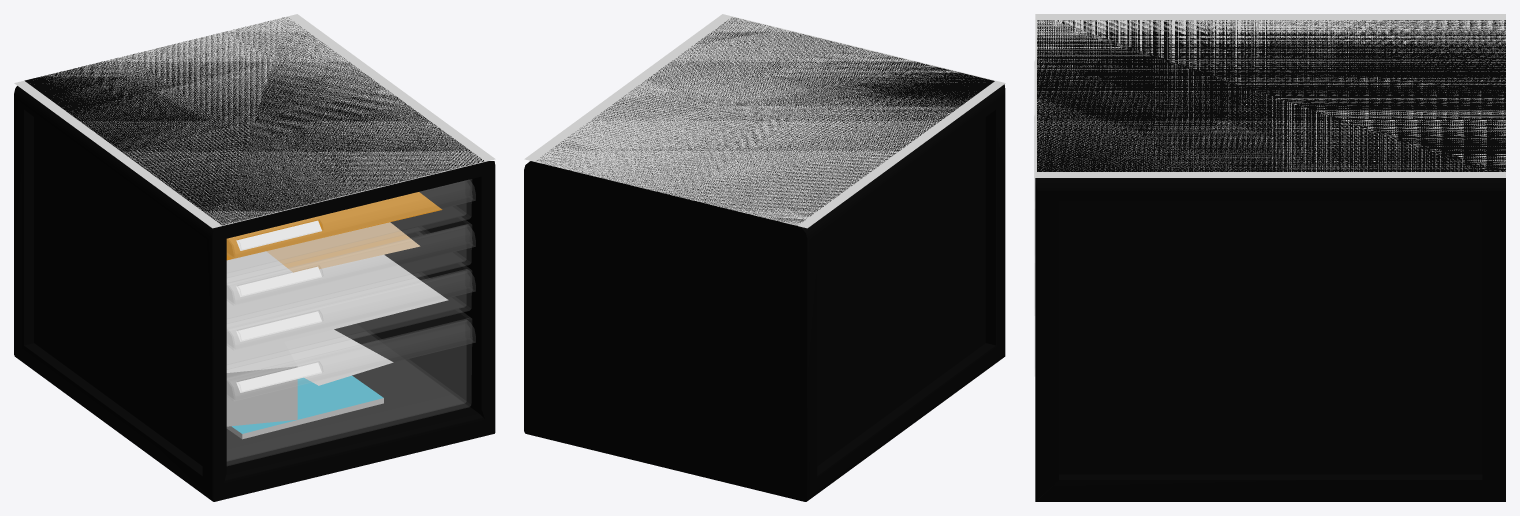
File: letter-case.glb
3 renders of one model, left to right at view 1: azimuth 30°, elevation 25°; view 2: azimuth 150°, elevation 25°; view 3: azimuth 270°, elevation 25°, orthographic. The views are drawn at different scales.
Parts seen in each view (by area): view 1: Body, __TOP__, Cube.001, Cube.002, Cube.003 (×4), Plane, Cube.006, Cube.005 (×4), Plane.001, Plane.002, Cube.007, Plane.003; view 2: Body, __TOP__; view 3: Body, __TOP__.
Part boxes in pixels (x1,y1,x2,y2): Body: (14,17,495,501); __TOP__: (14,14,495,228); Cube.001: (227,179,471,369); Cube.002: (227,309,471,465); Cube.003 (×4): (227,180,475,400); Plane: (226,251,448,353); Cube.006: (226,342,297,426); Cube.005 (×4): (236,220,321,392); Plane.001: (226,192,442,260); Plane.002: (267,222,419,272); Cube.007: (226,375,383,439); Plane.003: (284,329,393,385); Body: (524,17,1005,501); __TOP__: (524,14,1005,228); Body: (1035,20,1505,501); __TOP__: (1035,14,1505,177).
Bounding box in the file's own units: 0.277 × 0.256 × 0.337.
